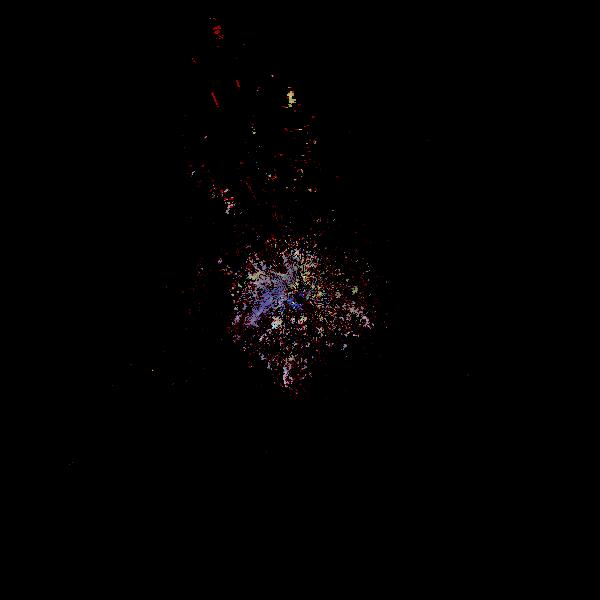roost: (277, 347, 331, 401), (326, 295, 377, 346)
